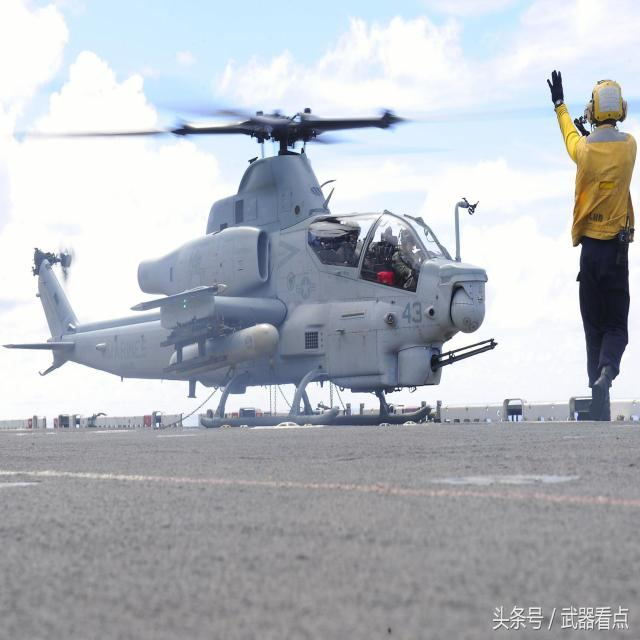MIL_HELO: (11, 82, 457, 435)
